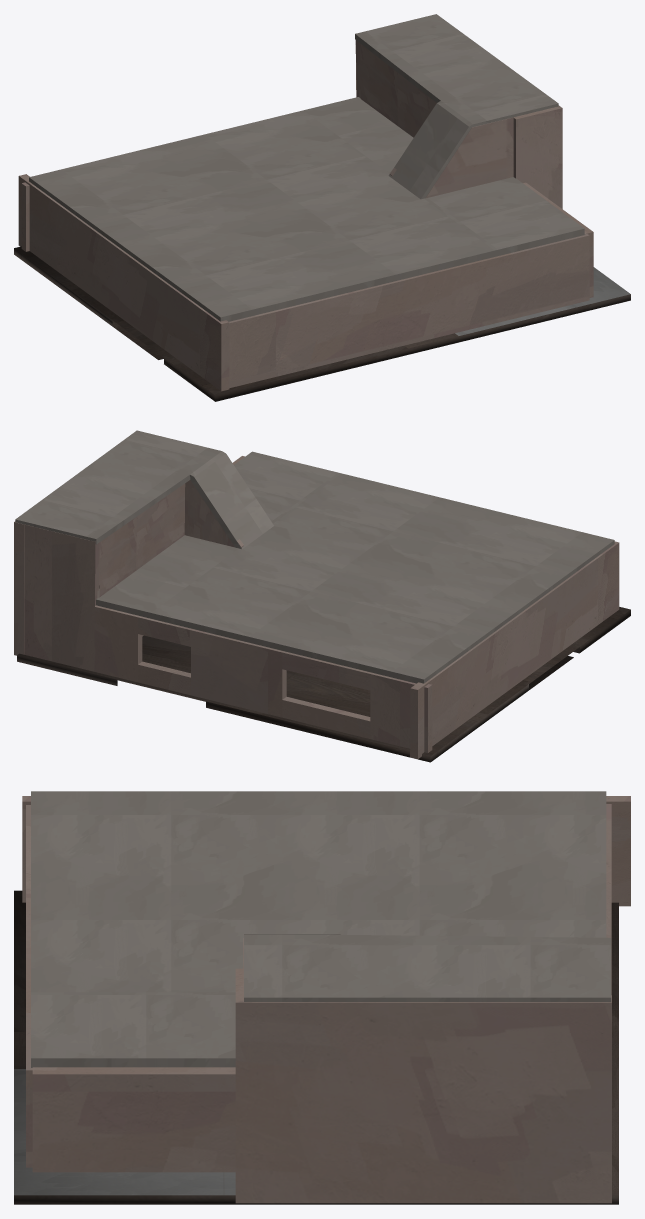
Rendered from Fixedhouse (1).fbx.
The picture shows the model from 3 angles, top to bottom: view 1: azimuth 30°, elevation 25°; view 2: azimuth 150°, elevation 25°; view 3: azimuth 270°, elevation 25°; orthographic projection. The views are drawn at different scales.
Visible parts, largest first — view 1: roof, left wall, flor; view 2: roof, left wall, flor; view 3: roof, left wall, flor.
Part boxes in pixels (box(x1,y1,x2,y2)): roof: box(29, 14, 584, 321); left wall: box(18, 40, 593, 391); flor: box(14, 246, 630, 401); roof: box(15, 430, 614, 683); left wall: box(14, 456, 619, 759); flor: box(17, 607, 630, 762); roof: box(31, 791, 611, 1067); left wall: box(22, 796, 630, 1203); flor: box(14, 890, 618, 1204).
Size of the model in its own units: 1805 by 1525 by 573.
Materials: 4 (4 with a texture image).
